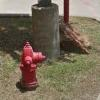a fire hydrant: (18, 44, 44, 91)
